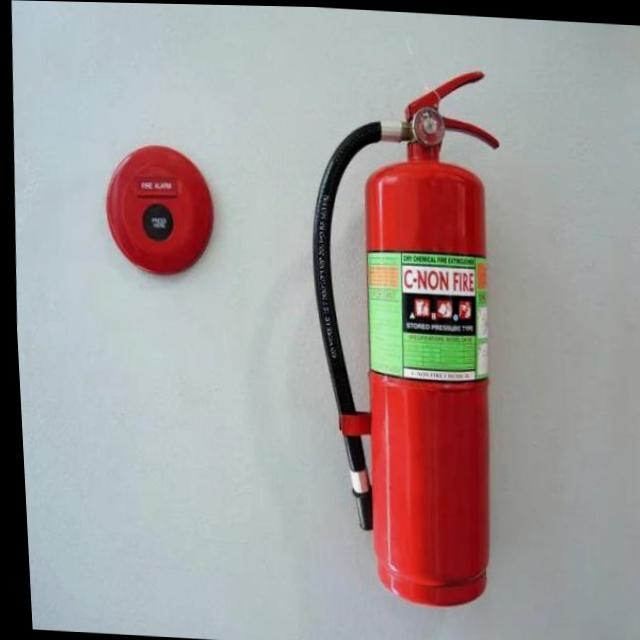FireExtinguisher: (286, 52, 522, 611)
